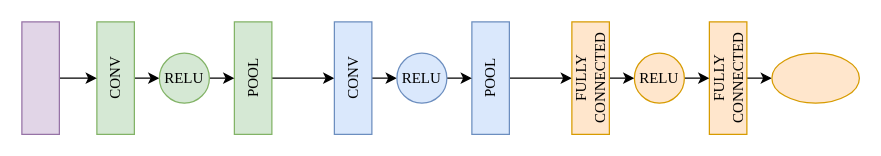
Some shapes in this 881 by 156 pixel diagram are drawn without their labels. The centre of each missing label's shape, as x and y in pixels:
INPUT: (x=40, y=77)
SOFTMAX: (x=815, y=77)
